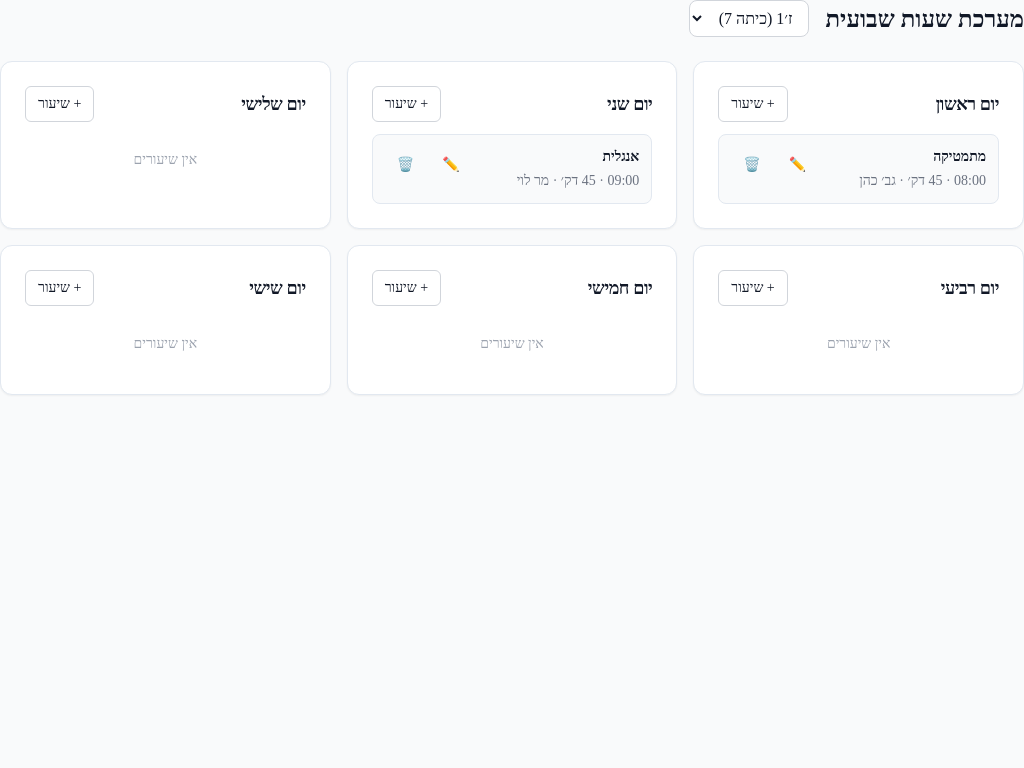
it: ScheduleBuilder › edit template › opens edit form with pre-filled data
Expected: the text "מתמטיקה" is shown, x1=933 y1=149 x2=986 y2=164
What coordinates should you click on to do the following:
click the button named "ערוך מתמטיקה"
I would click on:
 (798, 165)
Its box is x1=777 y1=147 x2=818 y2=183.
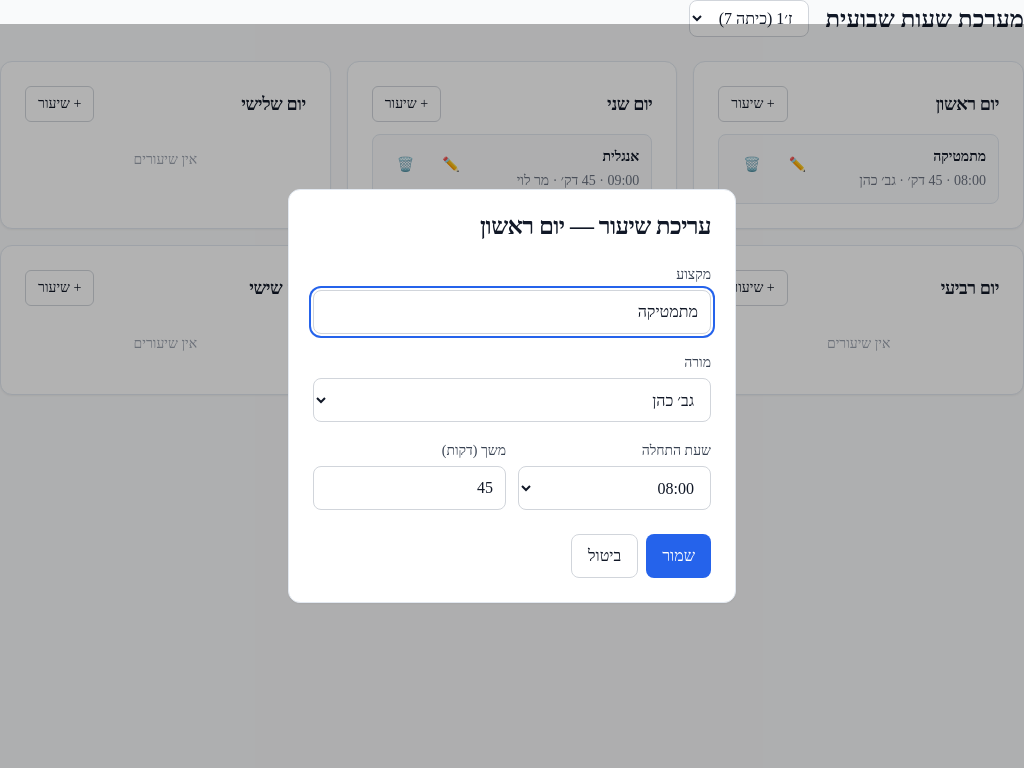
Expected: the heading "עריכת שיעור — יום ראשון" is shown, x1=480 y1=213 x2=711 y2=239
Expected: the field labelled "מקצוע" holds "מתמטיקה", x1=313 y1=290 x2=711 y2=334
